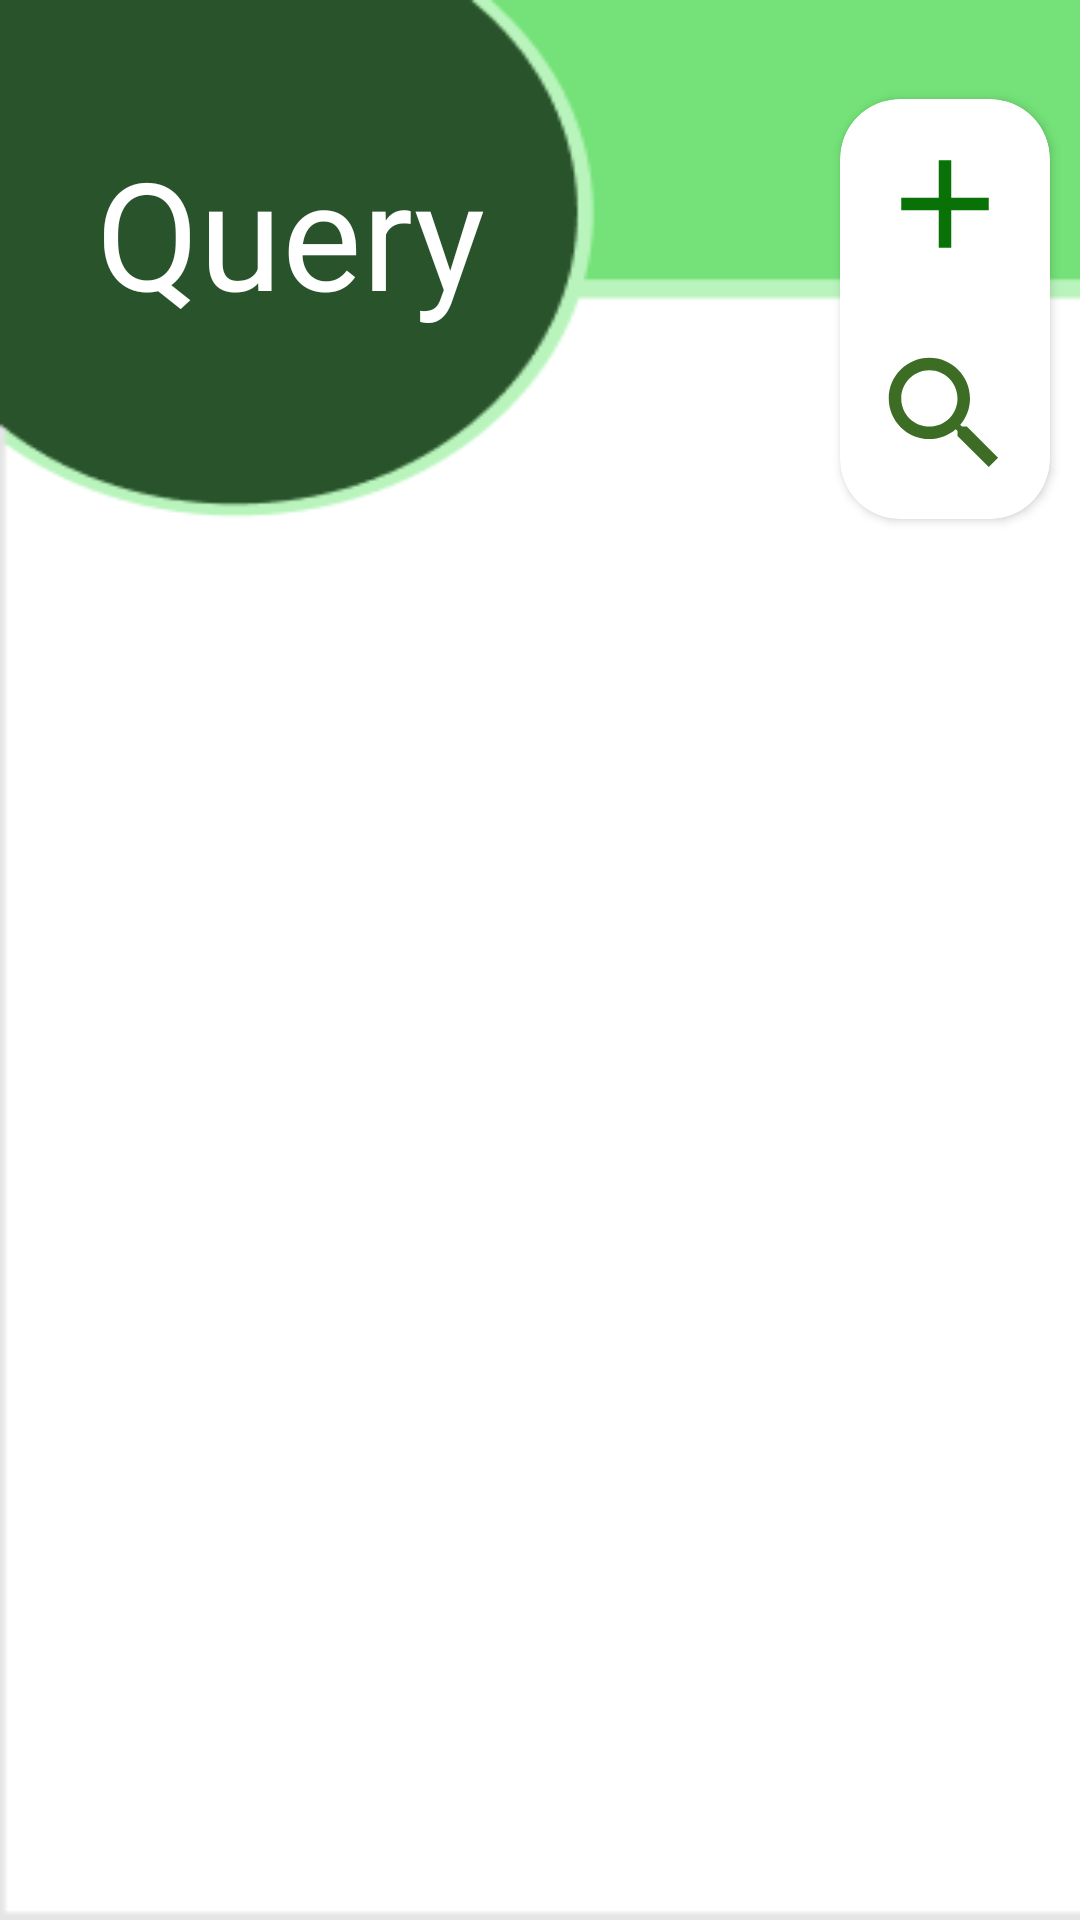

Named icons in this screenshot (1080px×1920px) and their centers, point (x, y):
add: point (945, 204)
search: point (943, 412)
